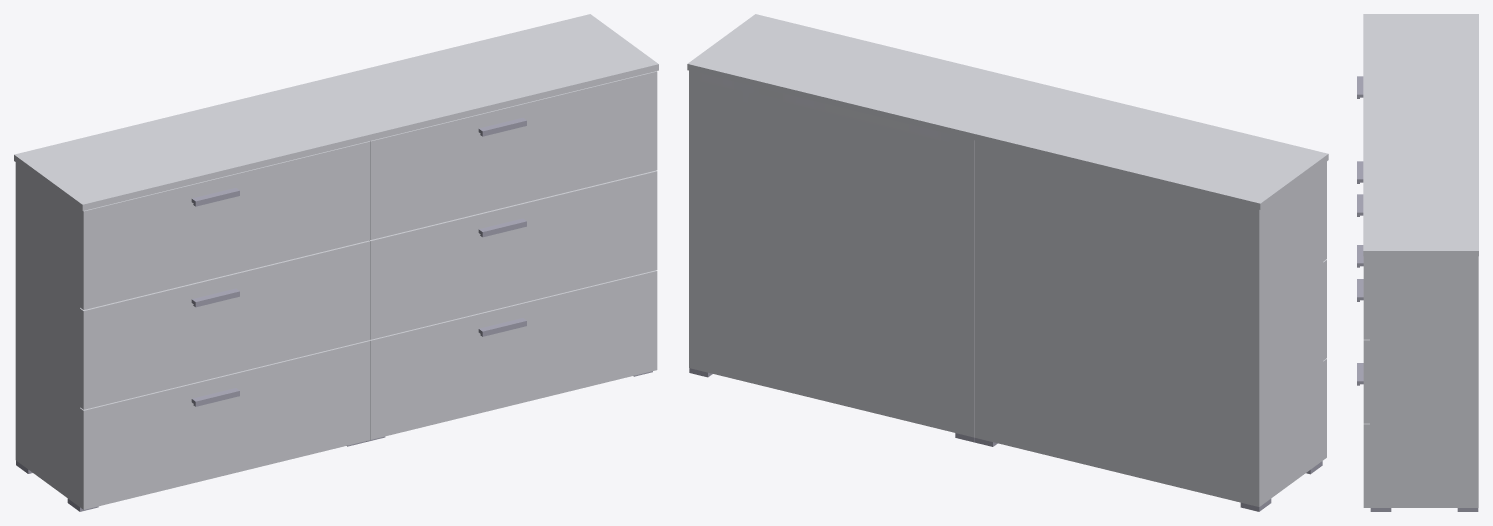
The model's file is dresser_abo_B07GFL6W68.glb.
3 views of the same model, side by side, from view 1: azimuth 30°, elevation 25°; view 2: azimuth 150°, elevation 25°; view 3: azimuth 270°, elevation 25° (orthographic). The views are drawn at different scales.
Visible parts, largest first — view 1: RootNode; view 2: RootNode; view 3: RootNode.
Boxes of the visible parts, x1,y1,x2,y2 form: RootNode: (14, 14, 658, 511); RootNode: (687, 14, 1328, 511); RootNode: (1357, 14, 1478, 511).
Size of the model in its own units: 1.53 by 0.7905 by 0.3335.
1 material, 1 textured.
